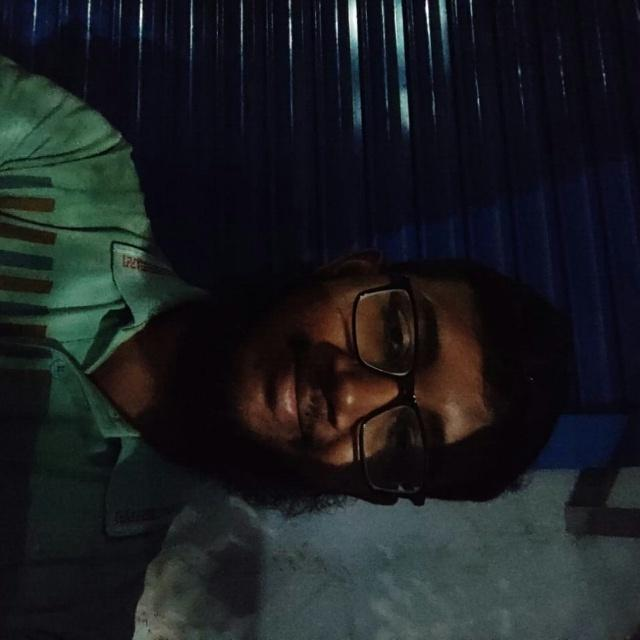Happy: (156, 216, 565, 533)
